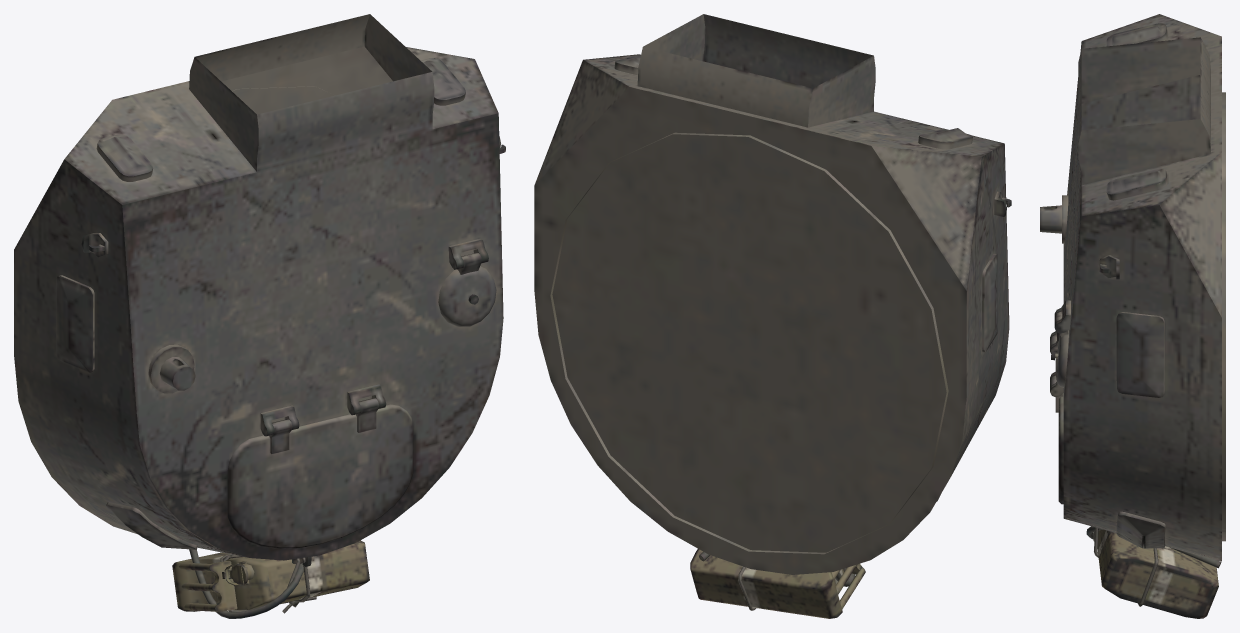
The model's file is Turret_01.glb.
The picture shows the model from 3 angles, left to right: view 1: azimuth 30°, elevation 25°; view 2: azimuth 150°, elevation 25°; view 3: azimuth 270°, elevation 25°; orthographic projection. The views are drawn at different scales.
Visible parts, largest first — view 1: set_0_group_0; view 2: set_0_group_0; view 3: set_0_group_0.
Part boxes in pixels (box(x1,y1,x2,y2)): set_0_group_0: box(14, 14, 505, 618); set_0_group_0: box(534, 14, 1011, 618); set_0_group_0: box(1040, 14, 1225, 618).
Size of the model in its own units: 1.46 by 1.73 by 0.5535.
Materials: 1 (1 with a texture image).
